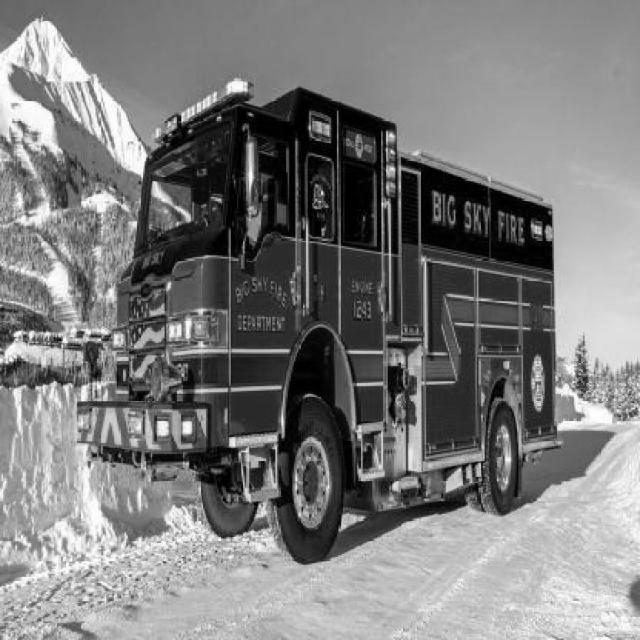Fire Truck: (75, 78, 569, 566)
